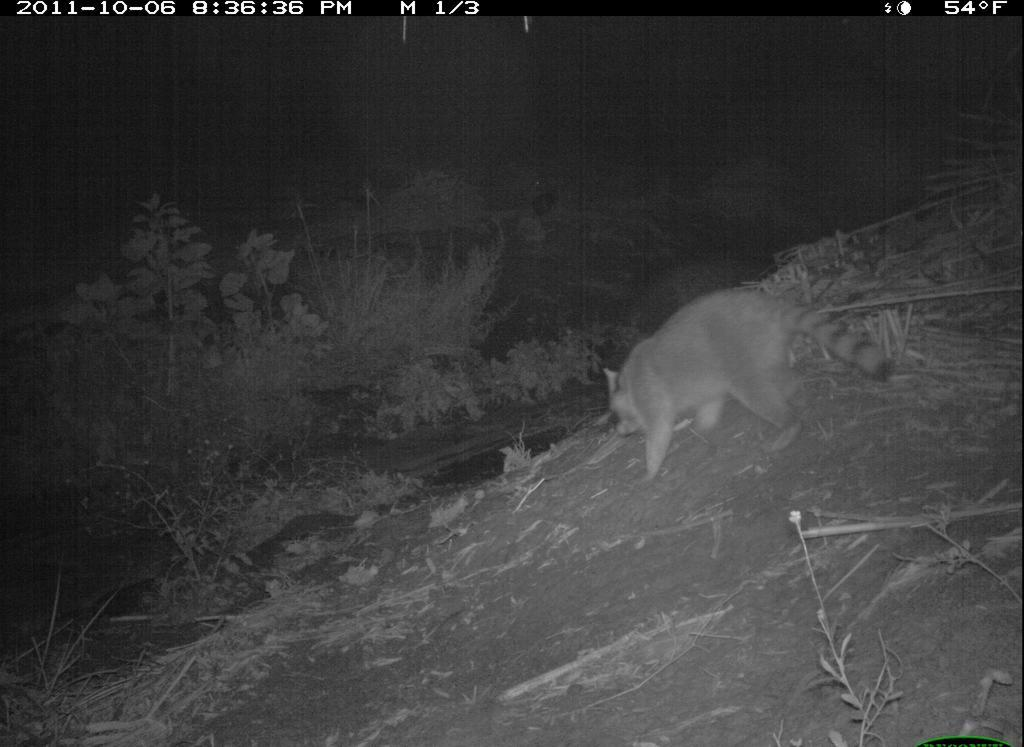raccoon: (580, 267, 909, 504)
